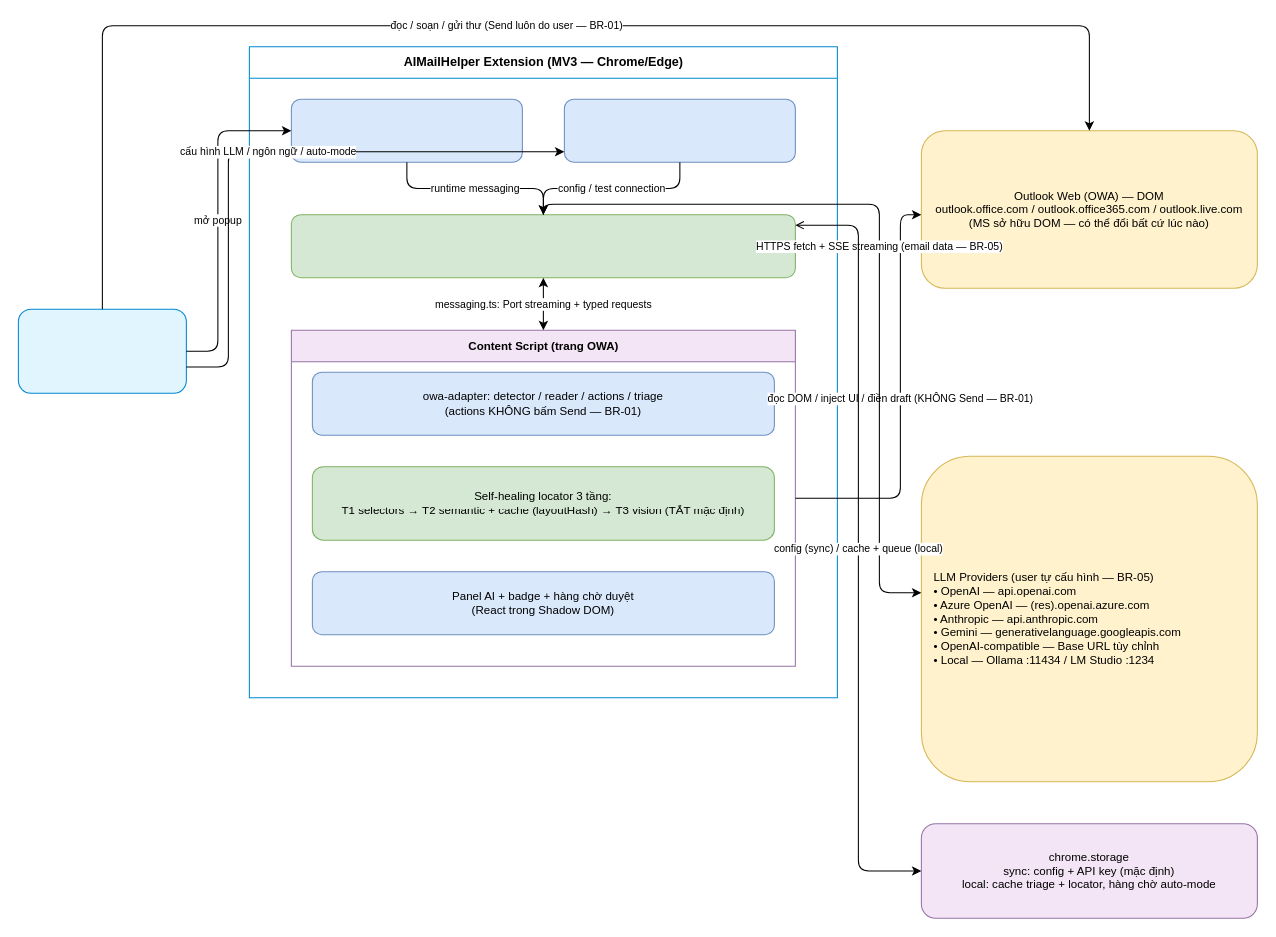
This 1276x937 diagram has some shape labels left out. Each missing label, with the centre of its shape:
Người dùng OWA (Work/School hoặc cá nhân): (x=101, y=350)
Options page (React) 6 section cấu hình: (x=679, y=130)
Popup provider active / bật-tắt / mở Options: (x=406, y=130)
Service Worker message router + LLM calls (fetch) + storage: (x=542, y=246)
